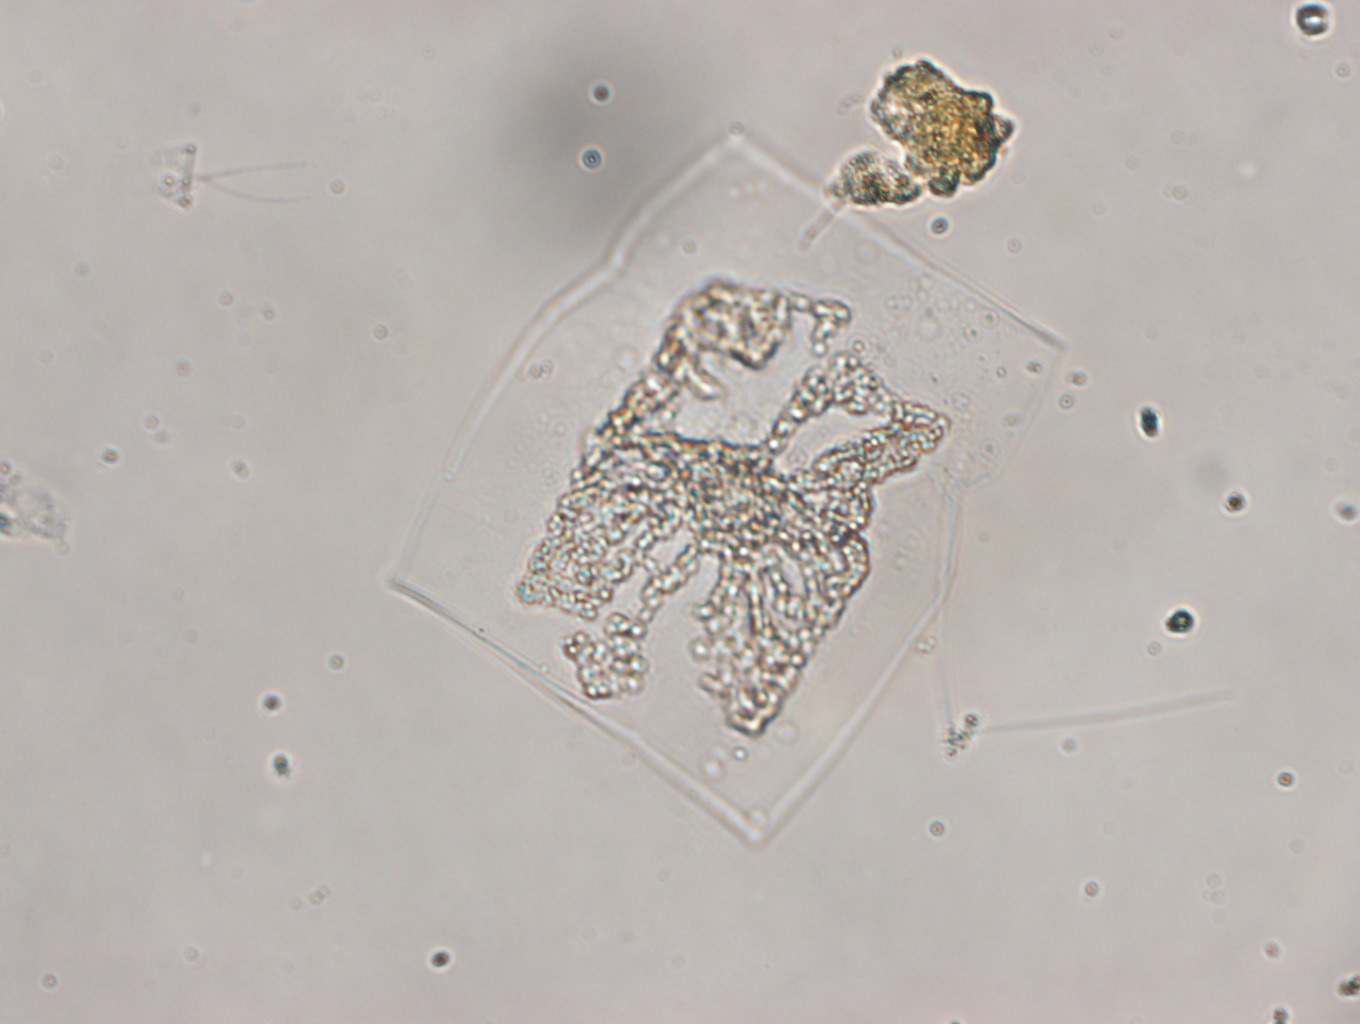helicotheca: (386, 128, 1064, 852)
